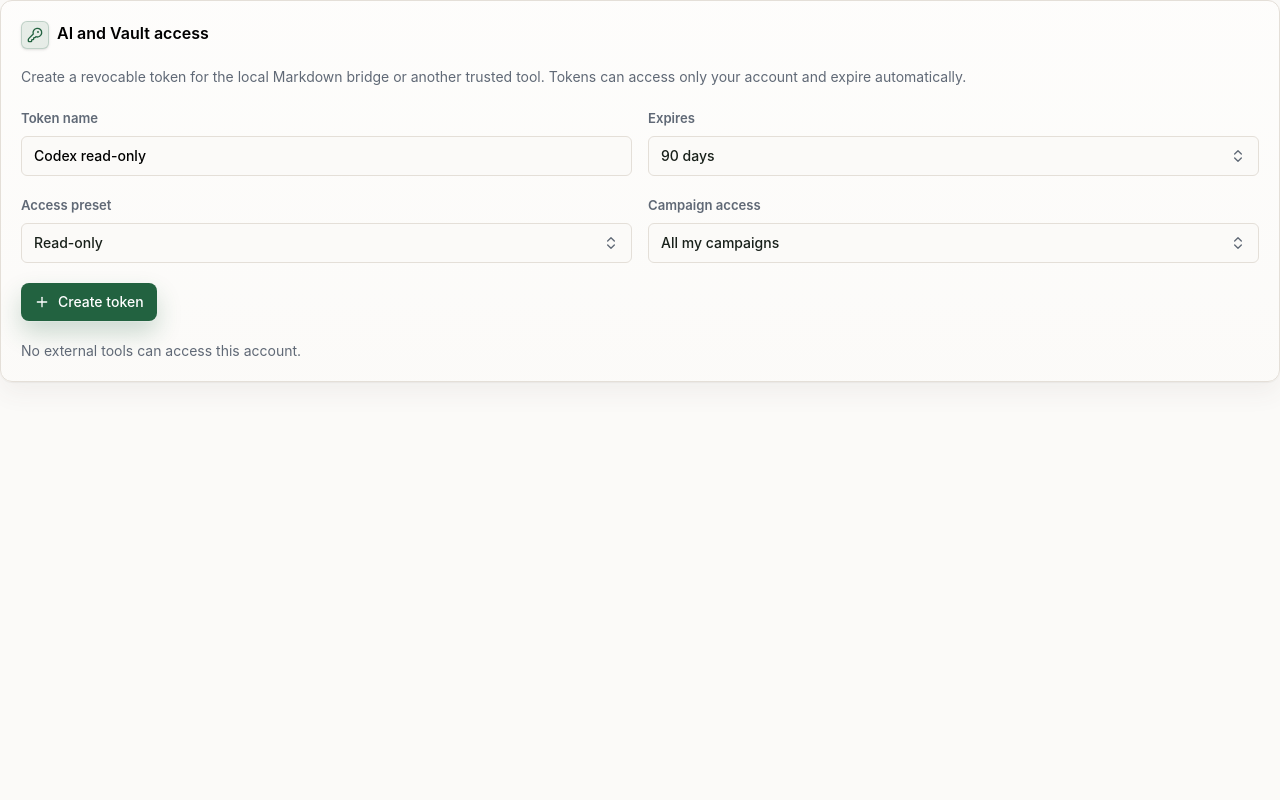
Test case: APITokenSettings › shows a newly created secret only in the creation result
expect the text "No external tools can access this account." is shown: met, box [21,342,301,358]
Click the button "Create token": [89, 302] box [21,282,157,320]
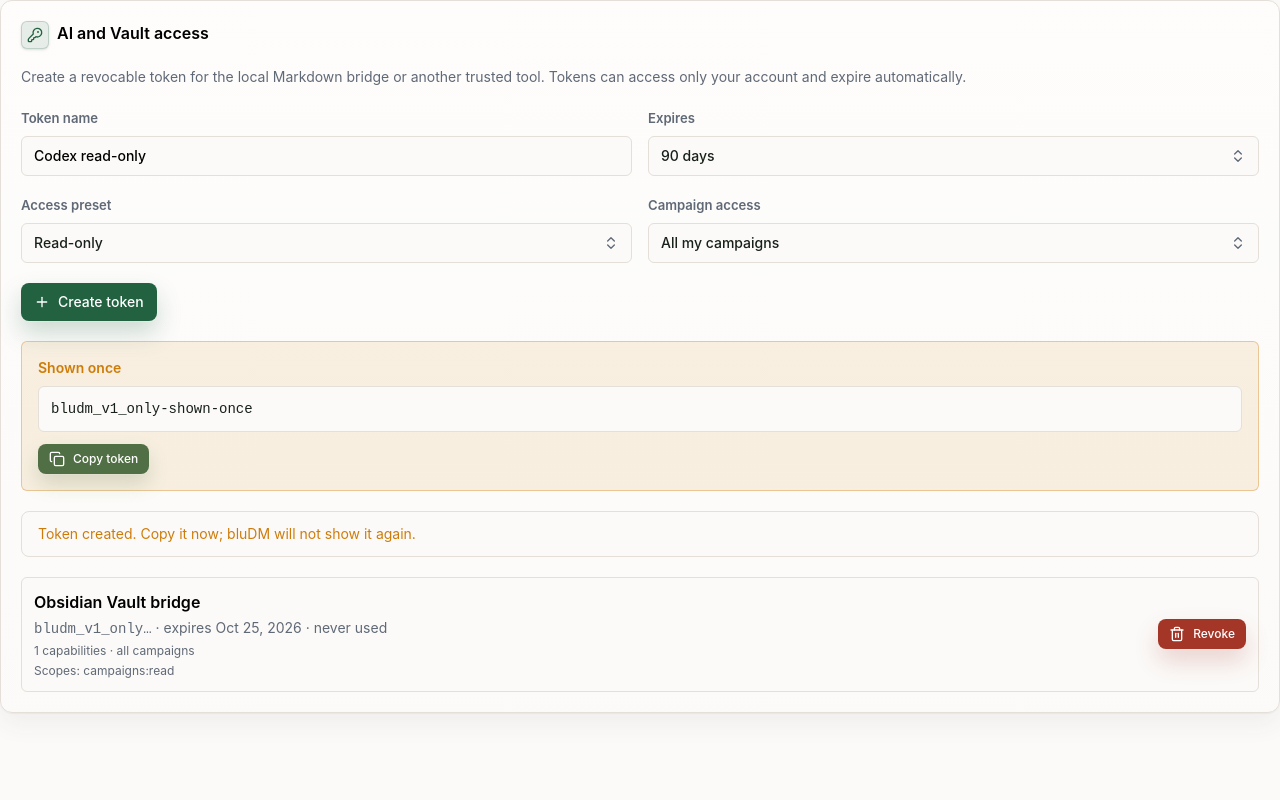
expect the text "bludm_v1_only-shown-once" is shown: met, box [38,386,1242,432]
expect the text "Shown once" is shown: met, box [38,358,121,376]
expect the text "Obsidian Vault bridge" is shown: met, box [34,592,200,612]
